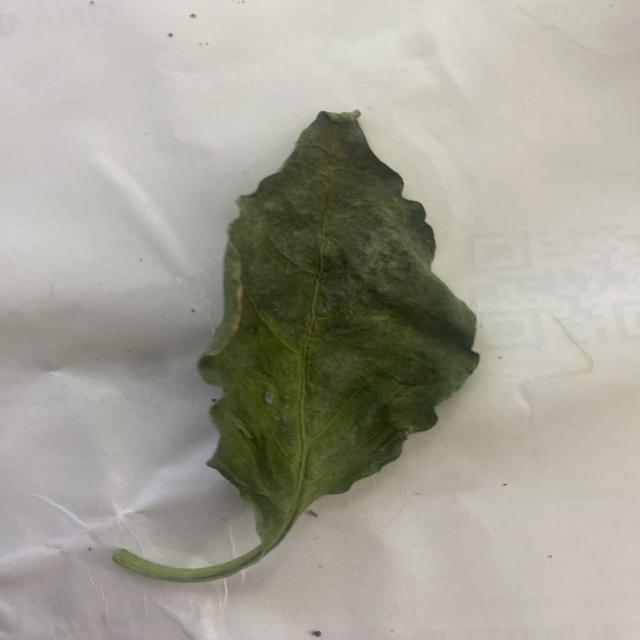Leaf: (195, 110, 480, 540)
